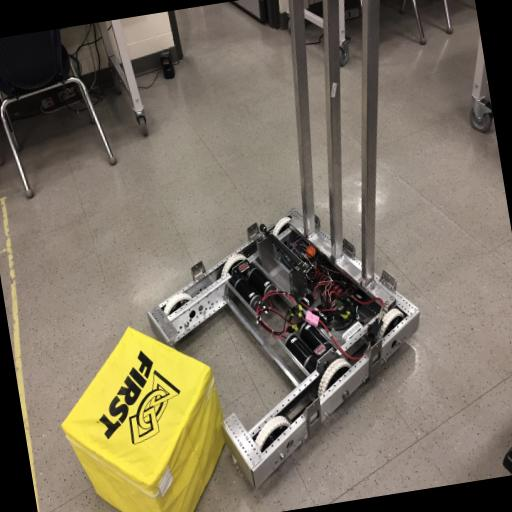robot: (101, 0, 444, 501)
